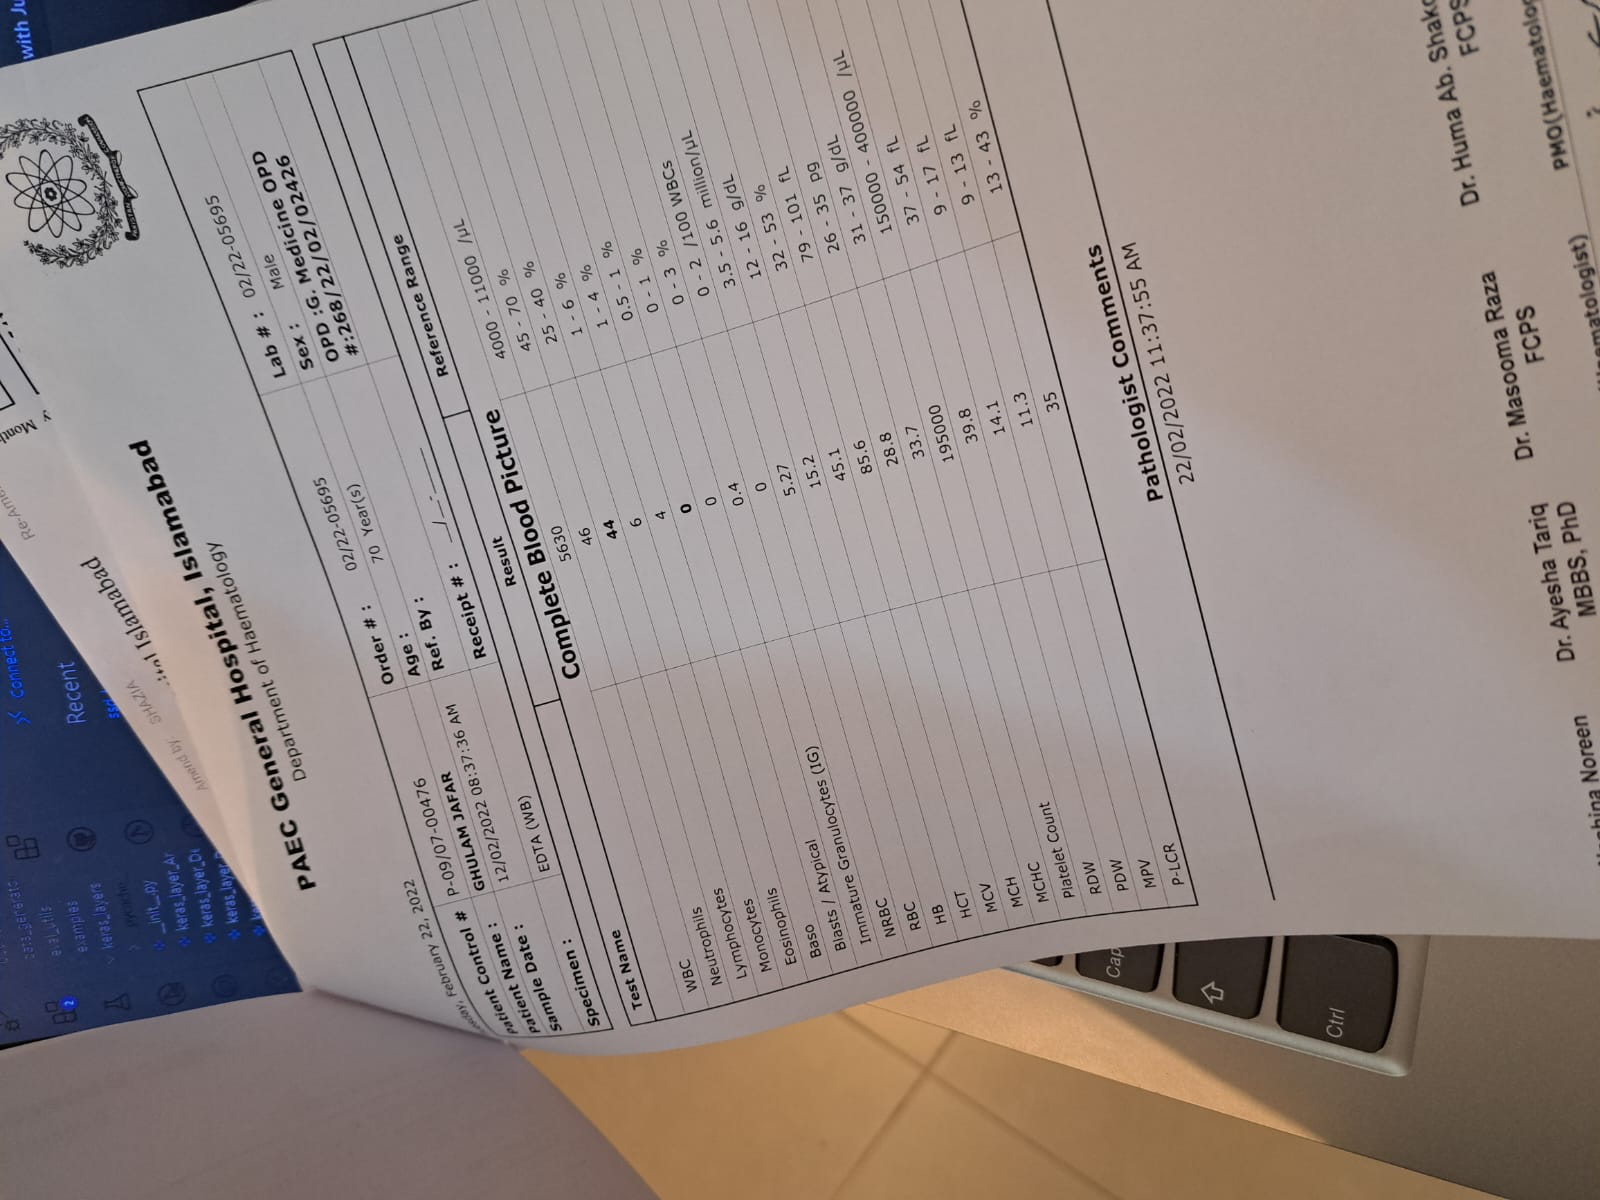report: (314, 1, 1199, 1027)
